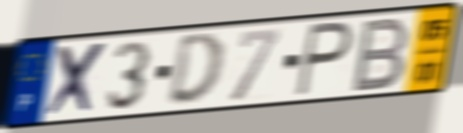3: (104, 39, 155, 112)
7: (233, 25, 284, 104)
B: (348, 14, 413, 95)
D: (164, 30, 226, 108)
P: (292, 19, 356, 99)
X: (43, 39, 111, 120)
